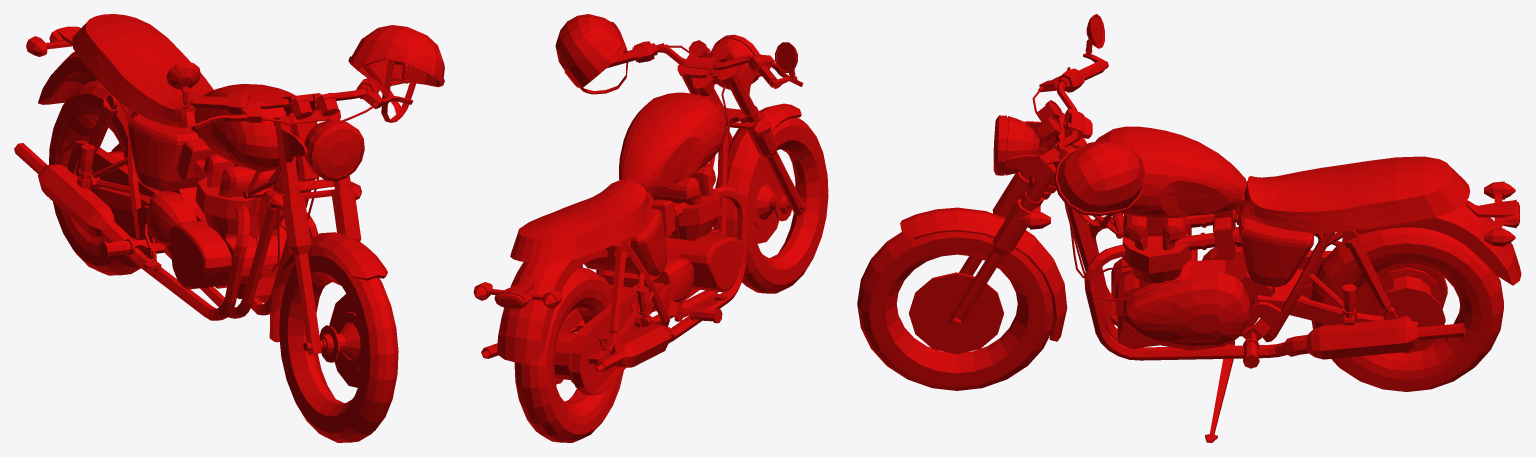
File: Bike.gltf
3 renders of one model, left to right at view 1: azimuth 30°, elevation 25°; view 2: azimuth 150°, elevation 25°; view 3: azimuth 270°, elevation 25°, orthographic. The views are drawn at different scales.
Parts seen in each view (by area): view 1: SM_Bike_01.mo; view 2: SM_Bike_01.mo; view 3: SM_Bike_01.mo.
Part boxes in pixels (left/top/right/bottom): SM_Bike_01.mo: left=14, top=14, right=444, bottom=442; SM_Bike_01.mo: left=473, top=14, right=828, bottom=442; SM_Bike_01.mo: left=857, top=14, right=1521, bottom=442.
Size of the model in its own units: 1.05 by 1.29 by 2.3.
